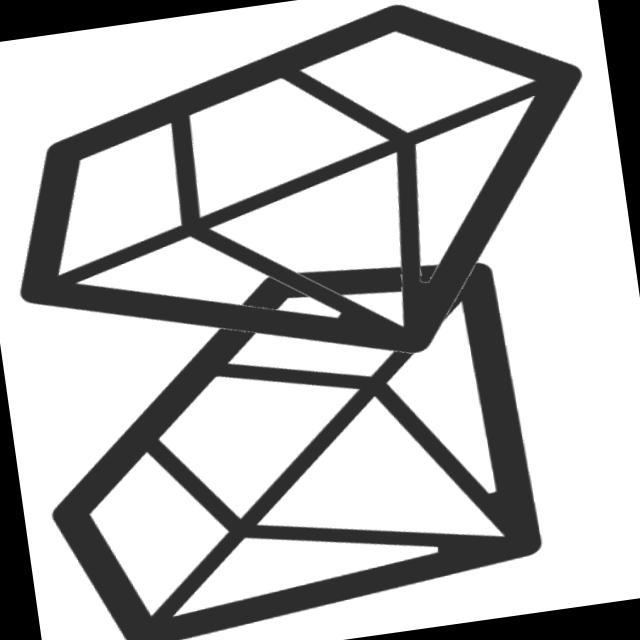diamond: (1, 1, 631, 421), (14, 231, 569, 640)
